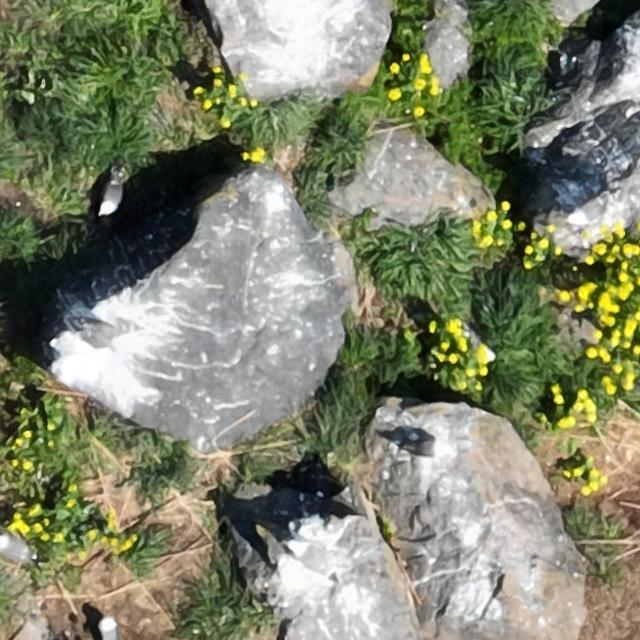umineko: (61, 316, 134, 358), (0, 536, 34, 563), (398, 436, 439, 456), (101, 180, 121, 215), (99, 618, 118, 640)
